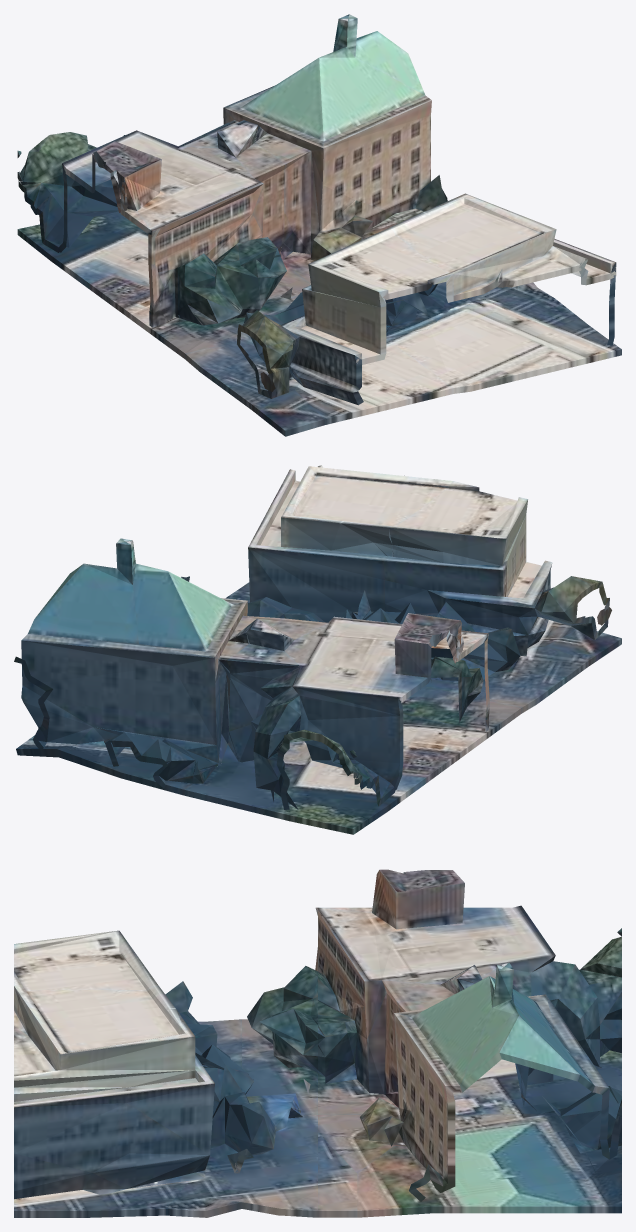
File: chunk_1_-5.glb
3 renders of one model, top to bottom at view 1: azimuth 30°, elevation 25°; view 2: azimuth 150°, elevation 25°; view 3: azimuth 270°, elevation 25°, orthographic. The views are drawn at different scales.
Parts seen in each view (by area): view 1: hero-chunk; view 2: hero-chunk; view 3: hero-chunk.
Boxes of the visible parts, <box> form: hero-chunk: <box>17,14,621,436</box>; hero-chunk: <box>14,465,621,834</box>; hero-chunk: <box>14,869,621,1217</box>.
Bounding box in the file's own units: 56.34 × 30.33 × 76.32.
Materials: 2 (2 with a texture image).
